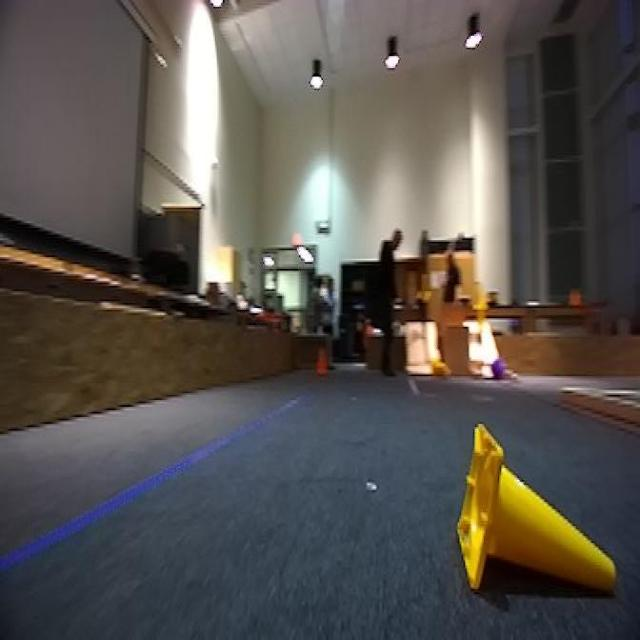frc_cone: (457, 420, 615, 596), (473, 282, 488, 315), (428, 361, 444, 383), (472, 312, 485, 337)
frc_cube: (492, 352, 506, 380)
